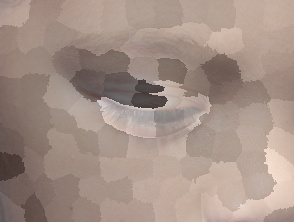vitiligo: (66, 60, 221, 148)
